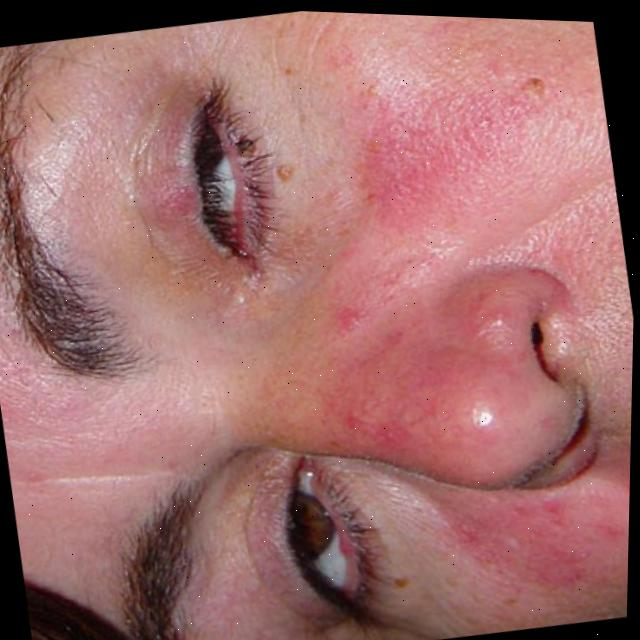Rosacea: (283, 49, 586, 350), (294, 261, 583, 508), (419, 455, 630, 620)
